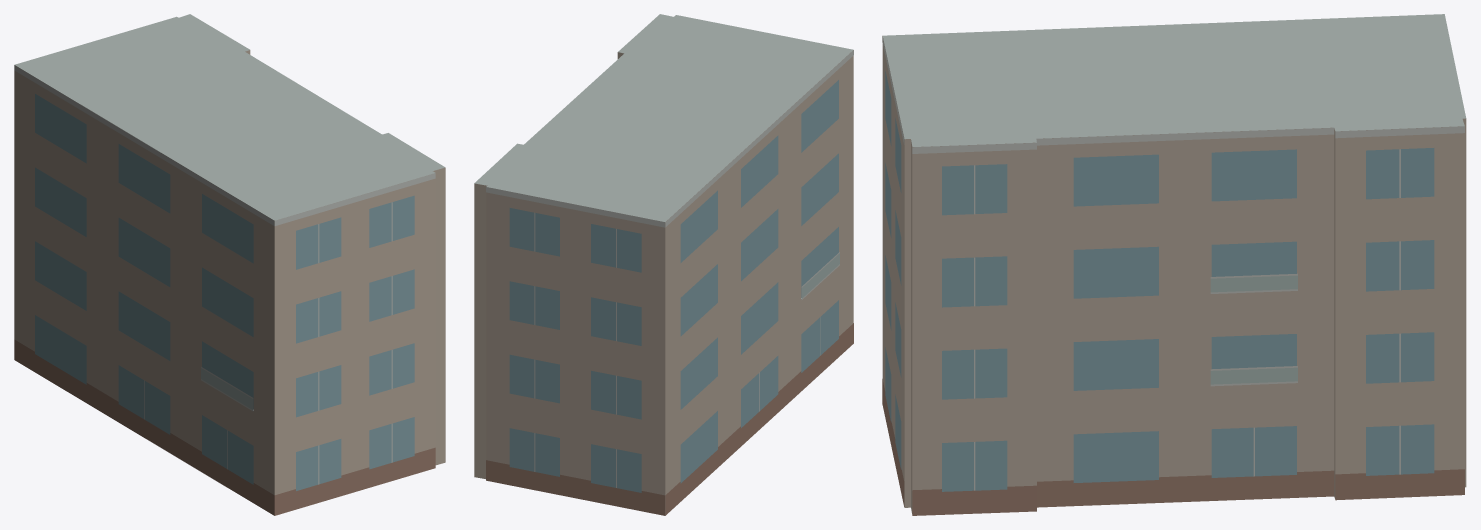
The model's file is survey-upis-32987066.glb.
3 views of the same model, side by side, from view 1: azimuth 30°, elevation 25°; view 2: azimuth 150°, elevation 25°; view 3: azimuth 270°, elevation 25° (orthographic). The views are drawn at different scales.
Visible parts, largest first — view 1: survey-upis-32987066.tmp; view 2: survey-upis-32987066.tmp; view 3: survey-upis-32987066.tmp.
Boxes of the visible parts, left/top/right/bottom form: survey-upis-32987066.tmp: left=14, top=14, right=445, bottom=515; survey-upis-32987066.tmp: left=474, top=14, right=853, bottom=515; survey-upis-32987066.tmp: left=882, top=14, right=1466, bottom=515.
Bounding box in the file's own units: 10.07 × 13 × 18.66.
